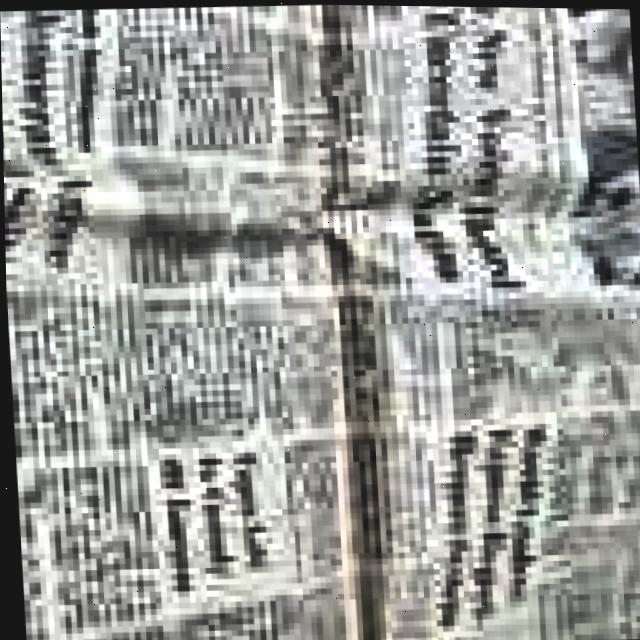paper: (0, 4, 640, 640), (336, 4, 640, 640)
